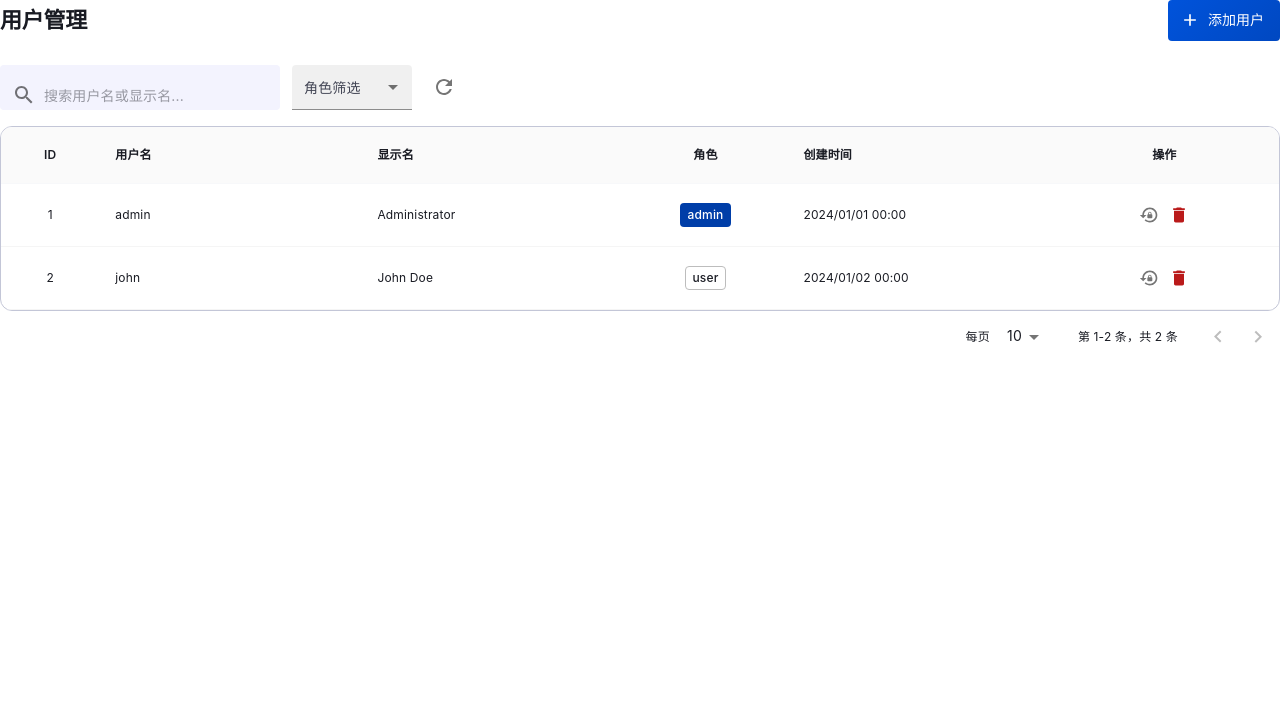
Test: AdminUsers › opens reset password dialog
Expected: the text "john" is shown, left=99, top=246, right=361, bottom=309
Click the button named "重置用户John Doe的密码" at (1149, 278), box left=1134, top=263, right=1164, bottom=293
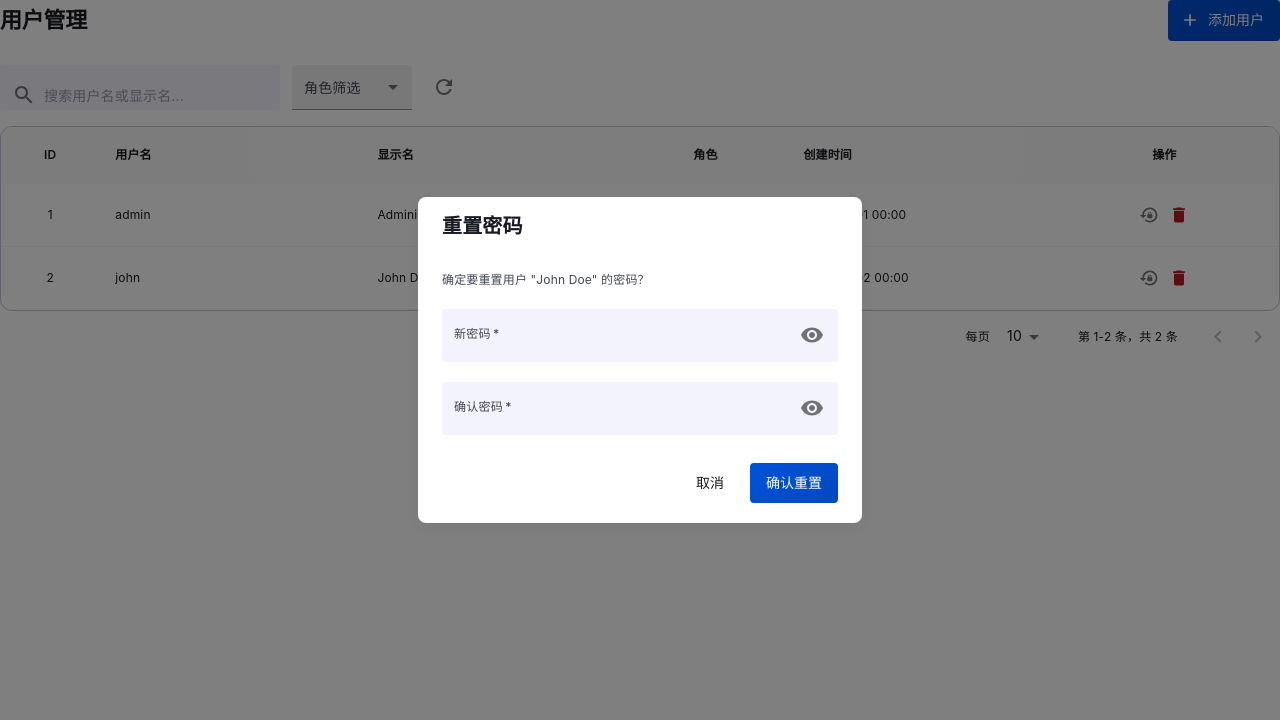
Now the dialog is shown, box left=418, top=197, right=862, bottom=523
Now the heading "重置密码" is shown, box left=442, top=214, right=523, bottom=238
